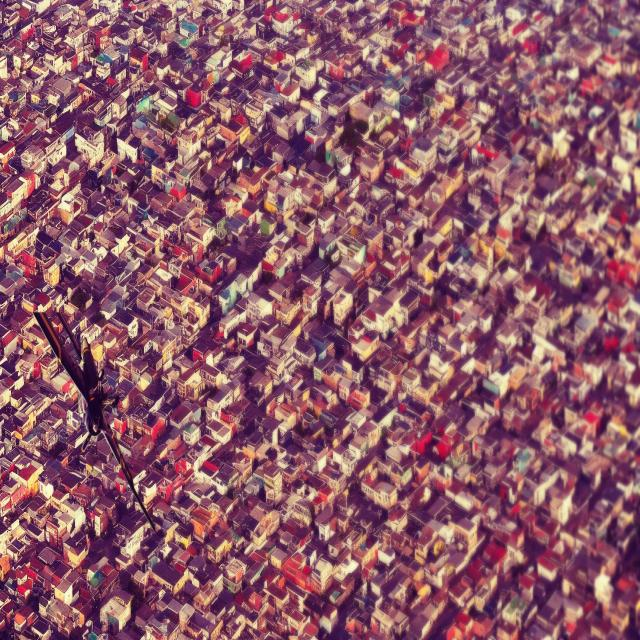airplane: (32, 305, 156, 535)
